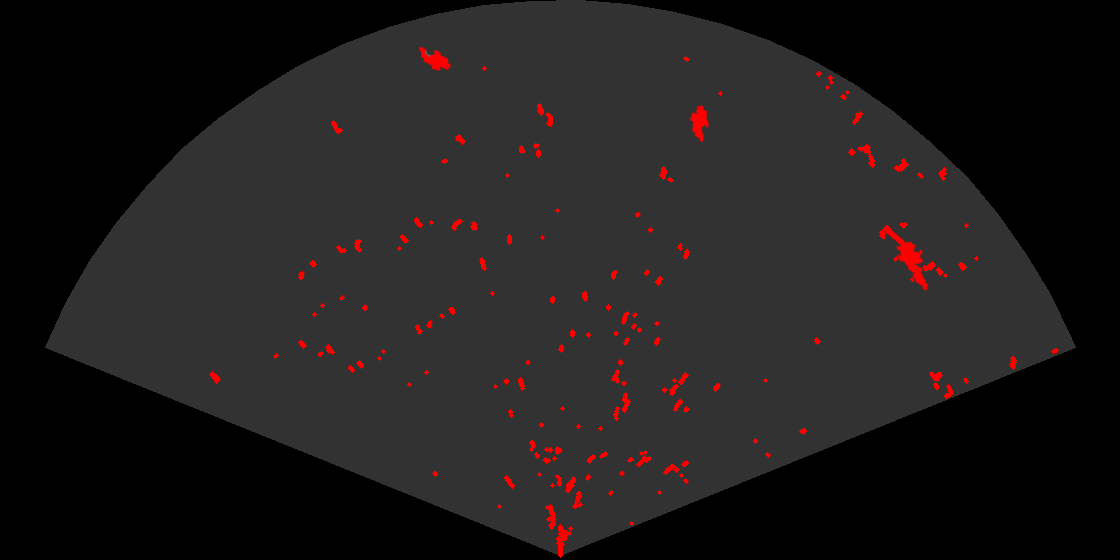AUV: (417, 45, 453, 73), (688, 103, 711, 144)
frogman: (883, 230, 930, 292)
